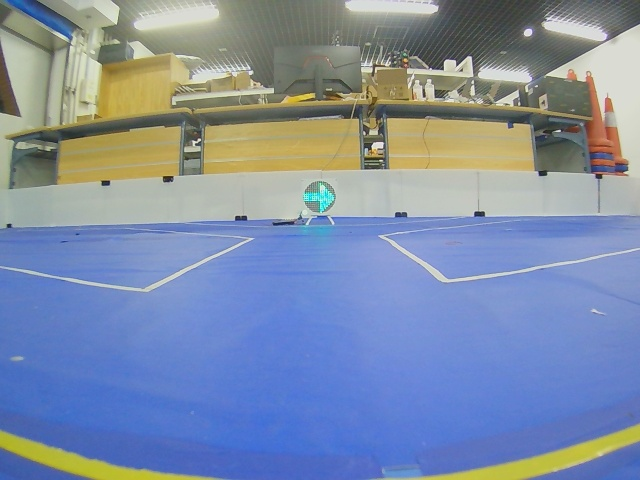right_green: (303, 181, 336, 213)
